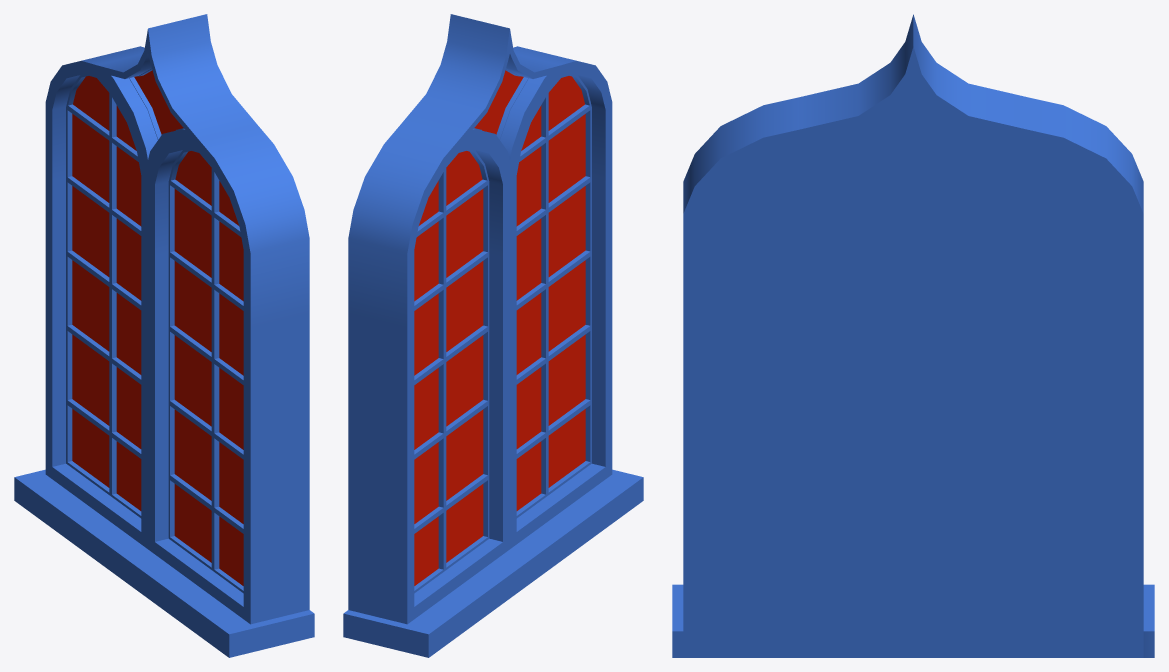
The model's file is Okno.fbx.
The picture shows the model from 3 angles, left to right: view 1: azimuth 30°, elevation 25°; view 2: azimuth 150°, elevation 25°; view 3: azimuth 270°, elevation 25°; orthographic projection. The views are drawn at different scales.
Visible parts, largest first — view 1: Cube_1; view 2: Cube_1; view 3: Cube_1.
Part boxes in pixels (x1=…): Cube_1: x1=14, y1=14, x2=314, y2=657; Cube_1: x1=343, y1=14, x2=643, y2=657; Cube_1: x1=672, y1=14, x2=1154, y2=657.
Size of the model in its own units: 72.13 by 440 by 314.
